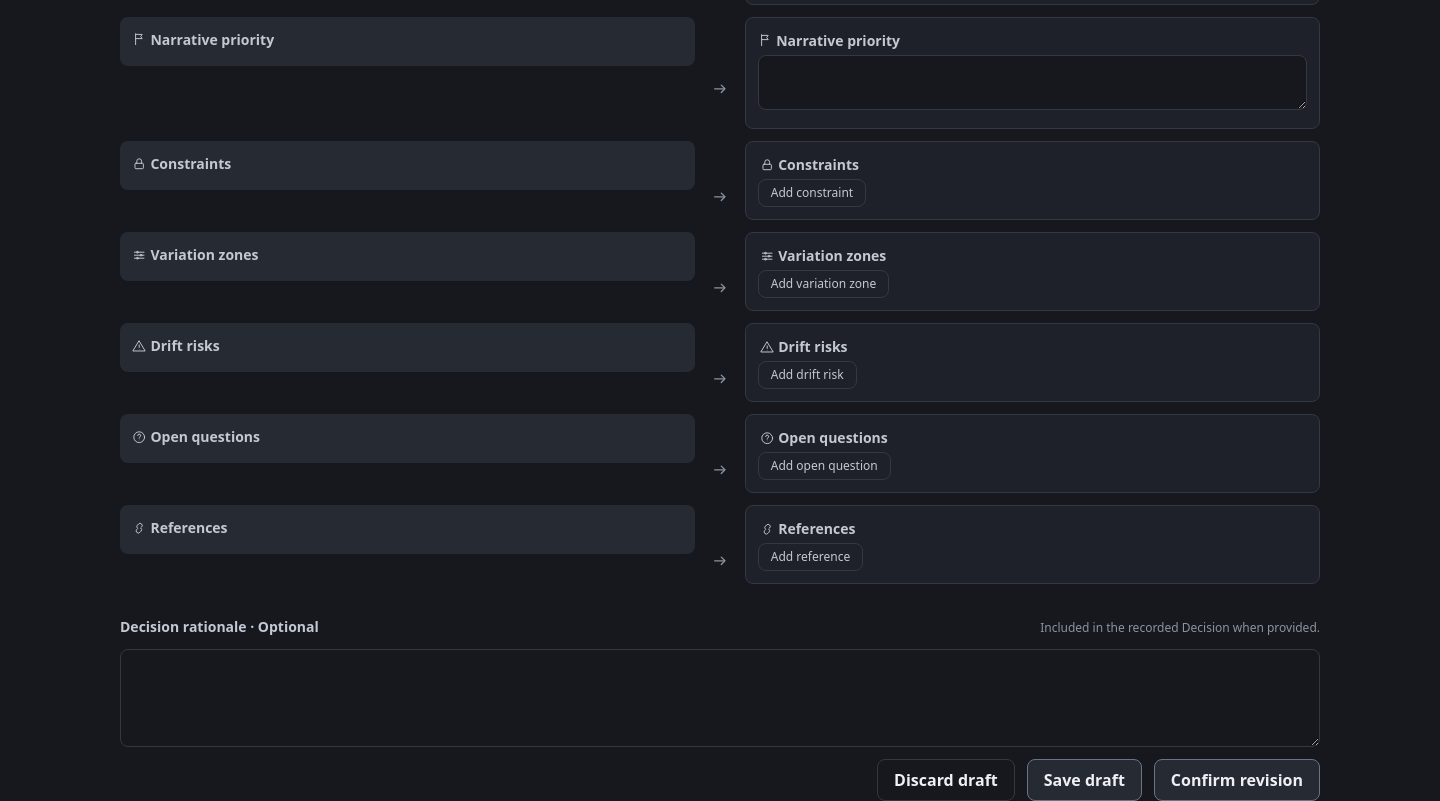
it: CoreAnchorRevisionEditor › saves successfully and shows a saved confirmation
The width and height of the screenshot is (1440, 801).
(page scrolled)
Click the button "Save draft".
click(1084, 780)  # box top-left (1027, 760), bottom-right (1142, 800)
(page scrolled)
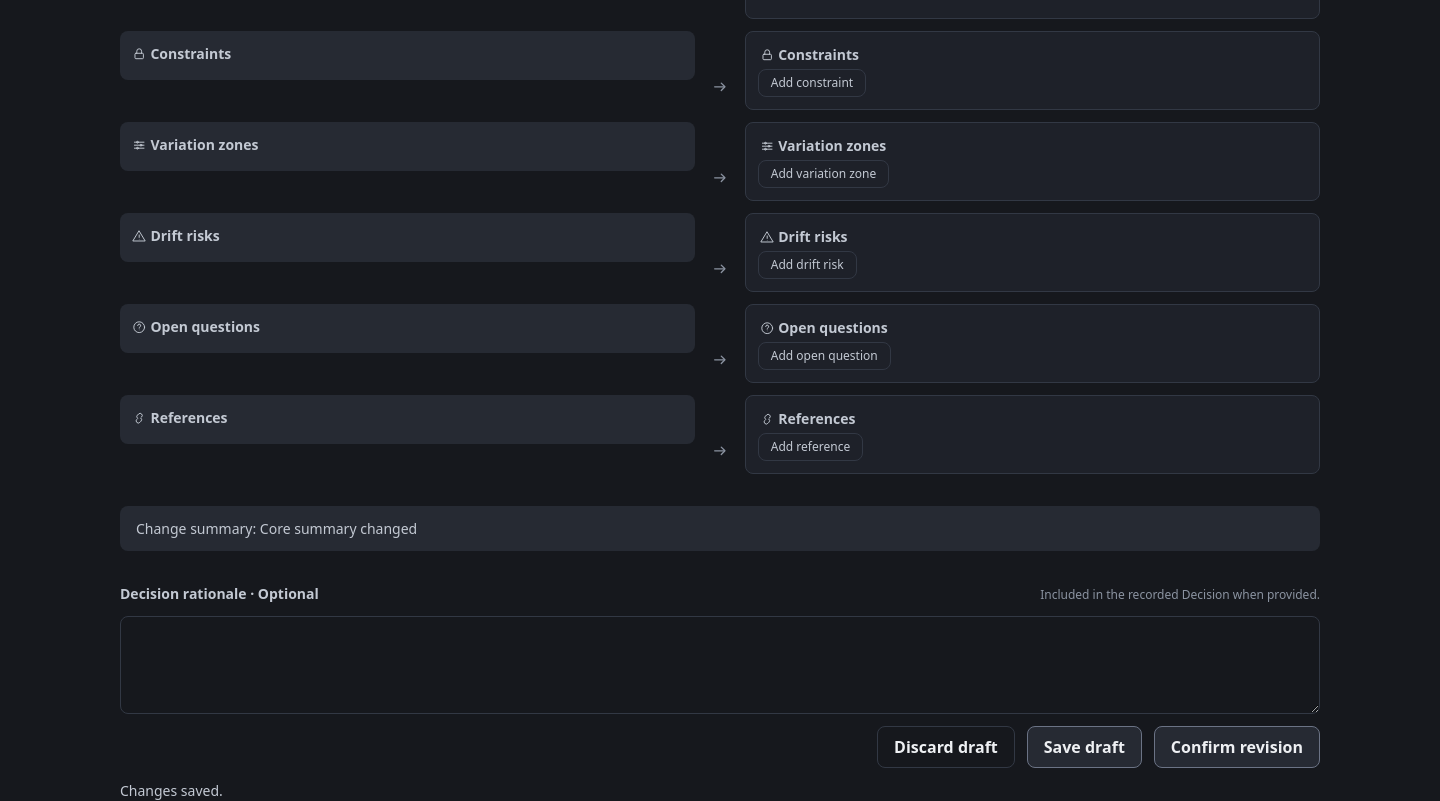
Expected: the text "Changes saved." is shown, top-left (120, 782), bottom-right (223, 800)
